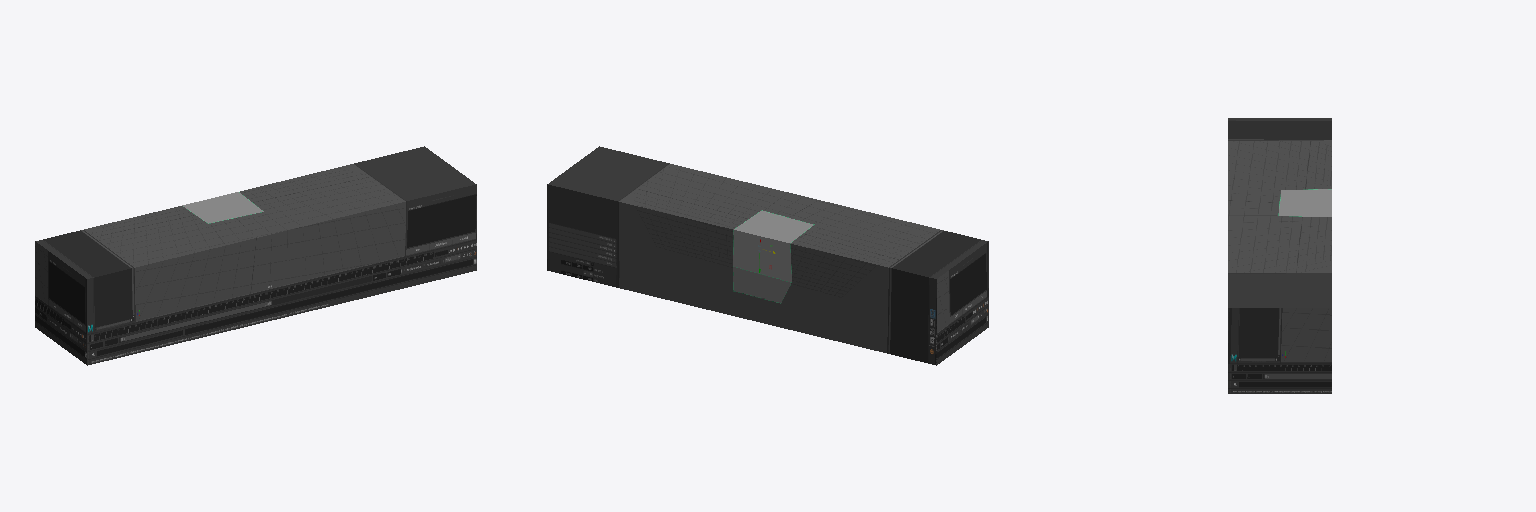
3 renders of one model, left to right at view 1: azimuth 30°, elevation 25°; view 2: azimuth 150°, elevation 25°; view 3: azimuth 270°, elevation 25°, orthographic.
Visible parts, largest first — view 1: pCube1; view 2: pCube1; view 3: pCube1.
Boxes of the visible parts, box(x1,y1,x2,y2) form: pCube1: box(35, 146, 476, 365); pCube1: box(547, 146, 988, 365); pCube1: box(1228, 118, 1331, 393).
Size of the model in its own units: 12.03 by 2.55 by 2.78.
1 materials, 1 textured.